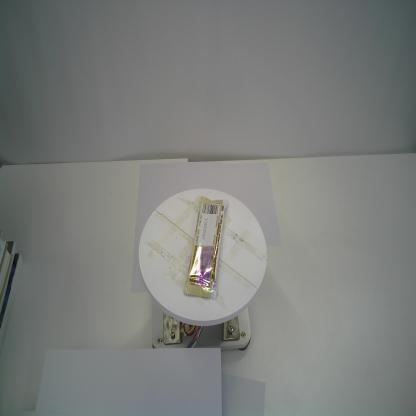Chocolate: (180, 192, 230, 300)
